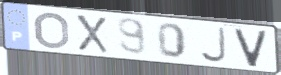0: (156, 21, 189, 61)
9: (116, 16, 148, 59)
J: (197, 26, 228, 64)
O: (33, 10, 72, 50)
V: (232, 28, 270, 69)
X: (73, 13, 111, 55)
